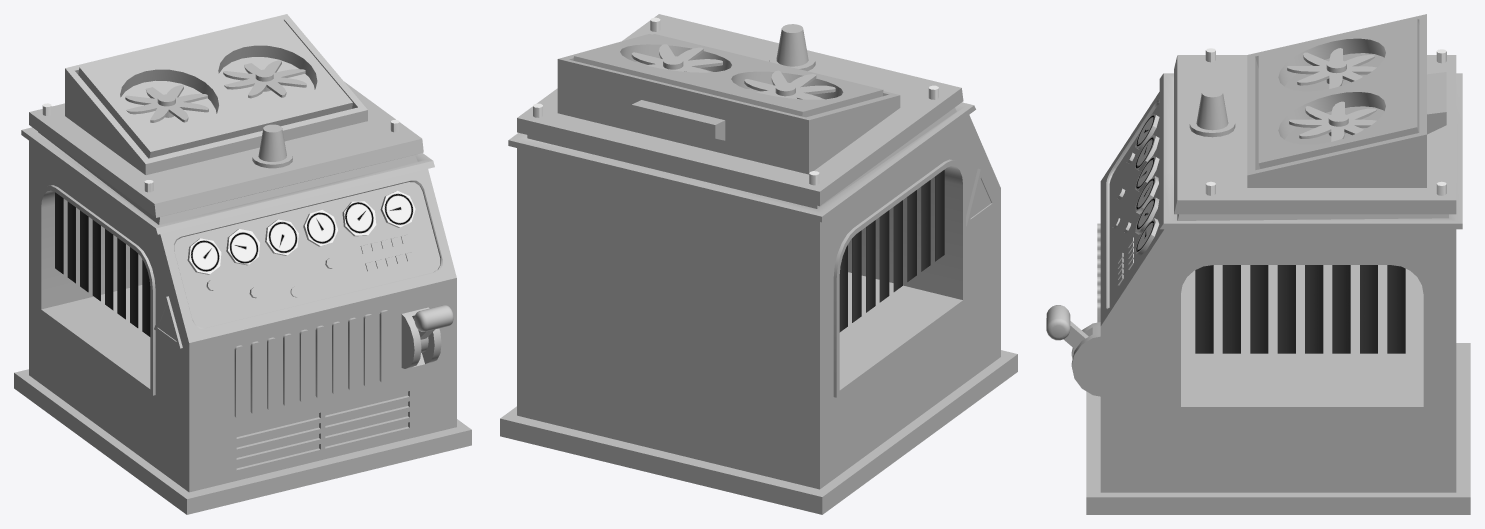
The model's file is Machn_v3_3.fbx.
3 renders of one model, left to right at view 1: azimuth 30°, elevation 25°; view 2: azimuth 150°, elevation 25°; view 3: azimuth 270°, elevation 25°, orthographic. The views are drawn at different scales.
Visible parts, largest first — view 1: Machn_v3_3, Plane_1.010, Machn_v3_3_Fan, AlertOrange.002, Pc_3; view 2: Machn_v3_3, Plane_1.010, Machn_v3_3_Fan, AlertOrange.002; view 3: Machn_v3_3, Plane_2.010, Machn_v3_3_Fan, AlertOrange.002, Pc_3.
Boxes of the visible parts, x1,y1,x2,y2 form: Machn_v3_3: (14, 14, 471, 514); Plane_1.010: (55, 192, 150, 336); Machn_v3_3_Fan: (125, 85, 208, 122); AlertOrange.002: (252, 124, 292, 168); Pc_3: (414, 305, 453, 339); Machn_v3_3: (500, 14, 1017, 514); Plane_1.010: (839, 170, 944, 332); Machn_v3_3_Fan: (744, 70, 835, 99); AlertOrange.002: (769, 24, 815, 71); Machn_v3_3: (1071, 14, 1470, 514); Plane_2.010: (1195, 265, 1405, 353); Machn_v3_3_Fan: (1287, 48, 1376, 88); AlertOrange.002: (1189, 88, 1235, 137); Pc_3: (1046, 305, 1088, 349).
Size of the model in its own units: 263 by 290 by 305.
